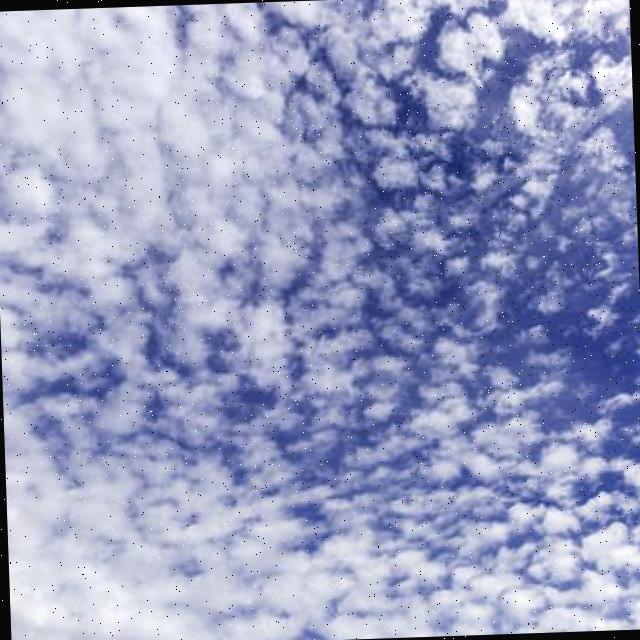Cc: (1, 15, 640, 640)
